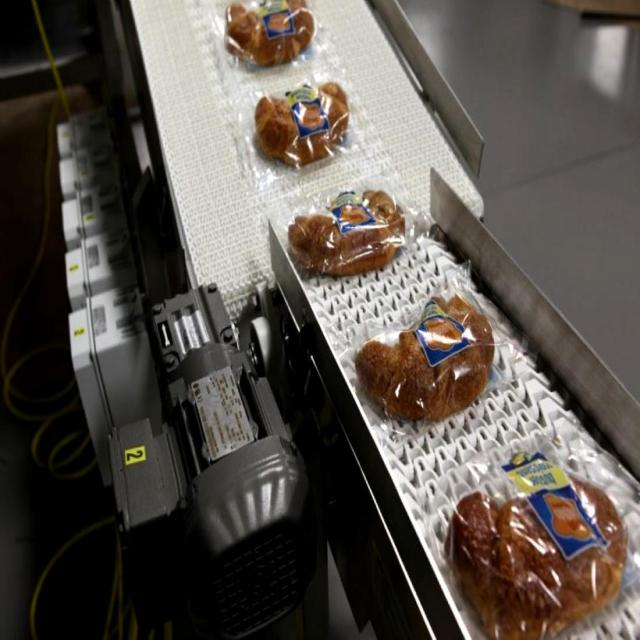food: (442, 443, 629, 638), (354, 286, 495, 424), (286, 186, 406, 279), (253, 78, 350, 169), (223, 0, 316, 69)
